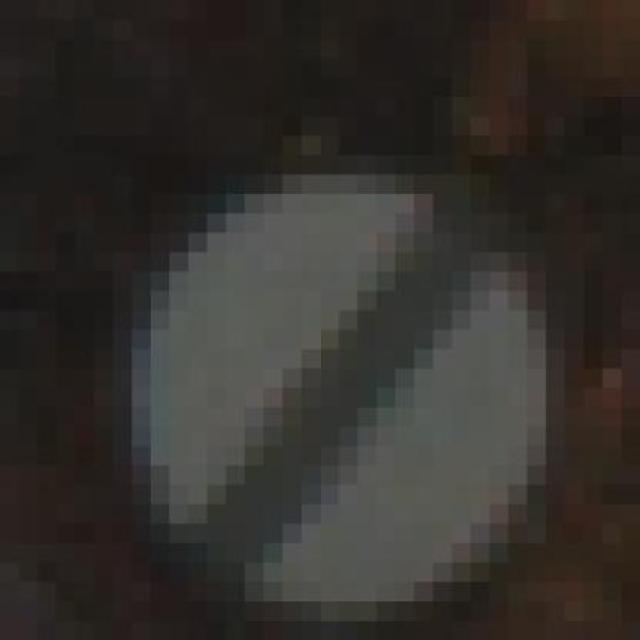End of all speed and passing limits: (132, 136, 583, 621)
